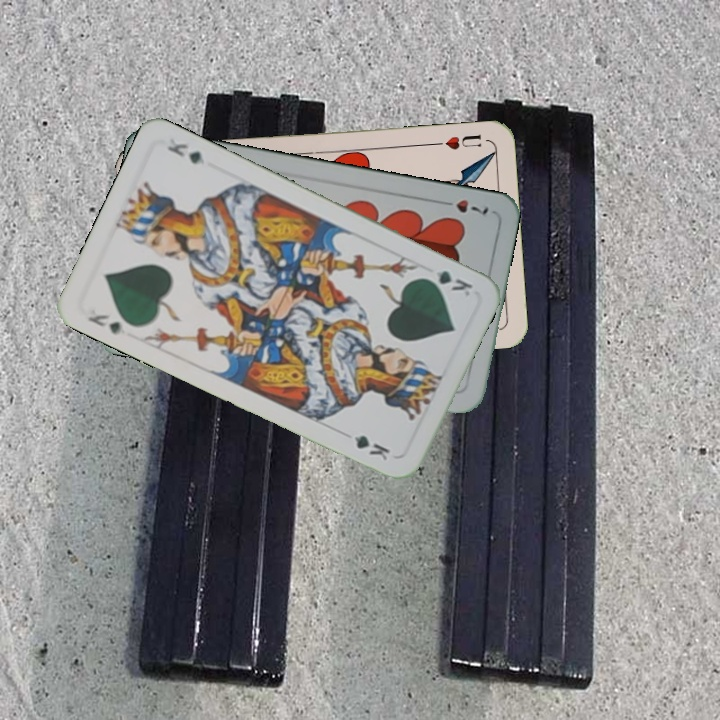GK: (418, 266, 476, 300), (84, 310, 124, 338)
H7: (435, 195, 491, 218)
HU: (429, 130, 484, 152)
